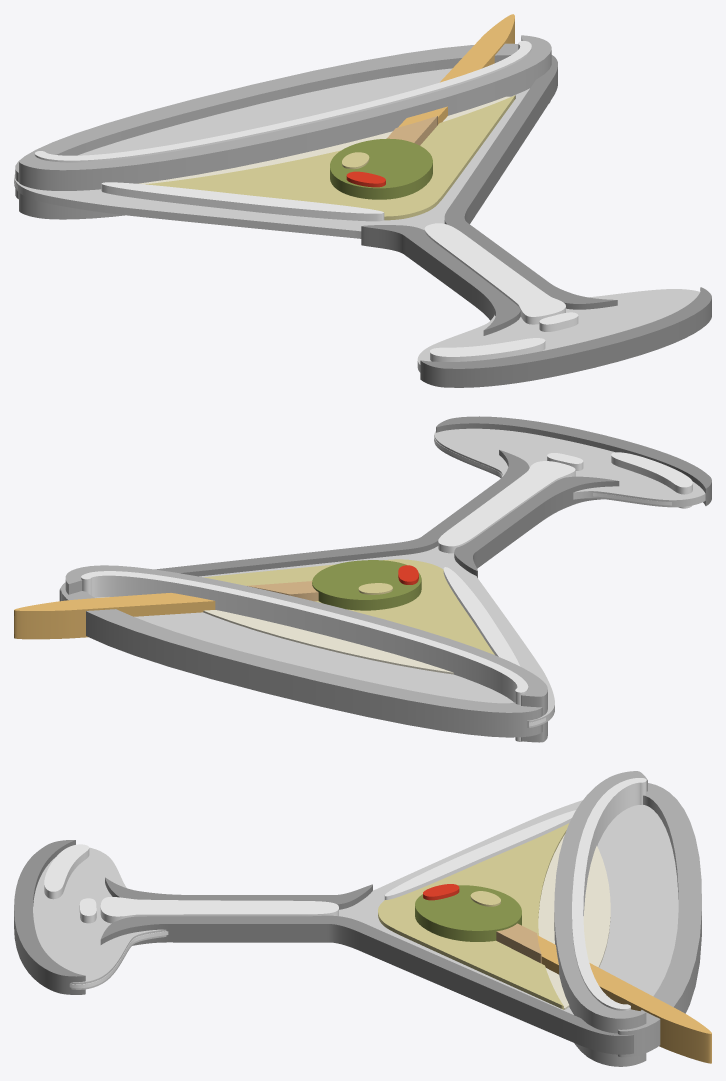
Rendered from emoji_u1f378.glb.
The picture shows the model from 3 angles, top to bottom: view 1: azimuth 30°, elevation 25°; view 2: azimuth 150°, elevation 25°; view 3: azimuth 270°, elevation 25°; orthographic projection. The views are drawn at different scales.
Visible parts, largest first — view 1: emoji_u1f378; view 2: emoji_u1f378; view 3: emoji_u1f378.
Part boxes in pixels (box(x1,y1,x2,y2)): emoji_u1f378: box(14, 14, 711, 387); emoji_u1f378: box(14, 416, 711, 742); emoji_u1f378: box(14, 771, 711, 1066).
Bounding box in the file's own units: 0.0295 × 0.0028 × 0.0342.
